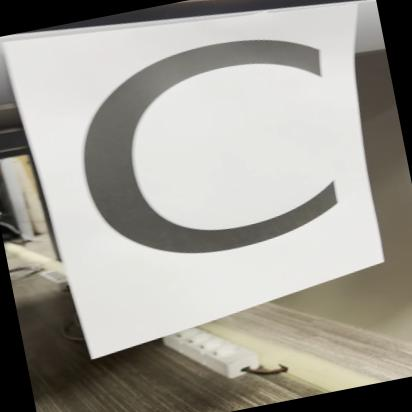seat: (18, 0, 389, 326)
